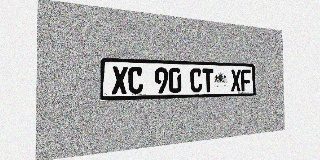0: (168, 68, 181, 93)
9: (154, 67, 168, 93)
C: (128, 67, 143, 94), (190, 68, 202, 92)
F: (241, 69, 251, 91)
T: (202, 68, 214, 92)
X: (112, 66, 128, 94), (231, 69, 241, 91)
